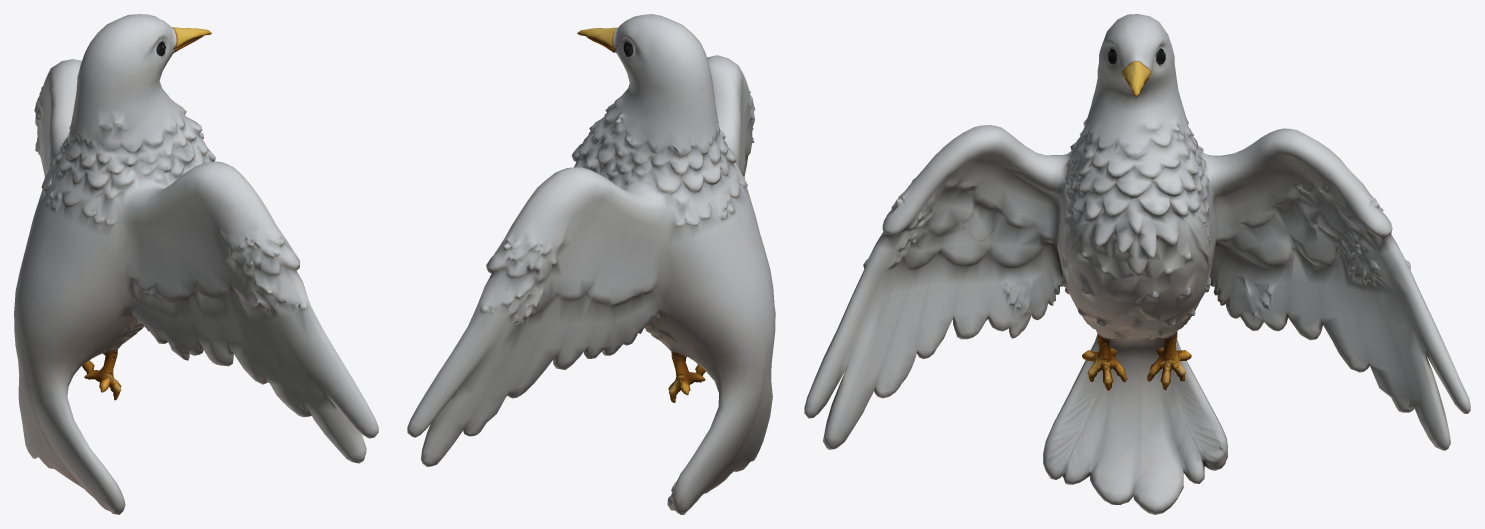
The model's file is r33-doves.glb.
3 views of the same model, side by side, from view 1: azimuth 30°, elevation 25°; view 2: azimuth 150°, elevation 25°; view 3: azimuth 270°, elevation 25° (orthographic). The views are drawn at different scales.
Parts seen in each view (by area): view 1: tripo_node_2cde42d7-092b-4737-8647-b70c516b5eb5; view 2: tripo_node_2cde42d7-092b-4737-8647-b70c516b5eb5; view 3: tripo_node_2cde42d7-092b-4737-8647-b70c516b5eb5.
Boxes of the visible parts, left/top/right/bottom form: tripo_node_2cde42d7-092b-4737-8647-b70c516b5eb5: left=14, top=14, right=378, bottom=514; tripo_node_2cde42d7-092b-4737-8647-b70c516b5eb5: left=407, top=14, right=775, bottom=514; tripo_node_2cde42d7-092b-4737-8647-b70c516b5eb5: left=804, top=14, right=1470, bottom=514.
Bounding box in the file's own units: 0.3809 × 0.8418 × 0.998.
Materials: 1 (1 with a texture image).
